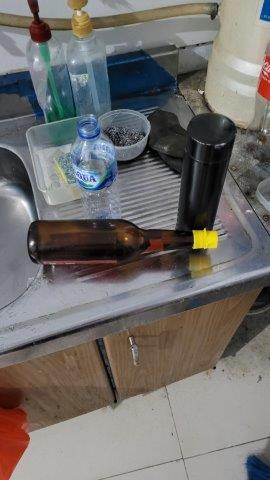botolkaca: (26, 219, 219, 267)
